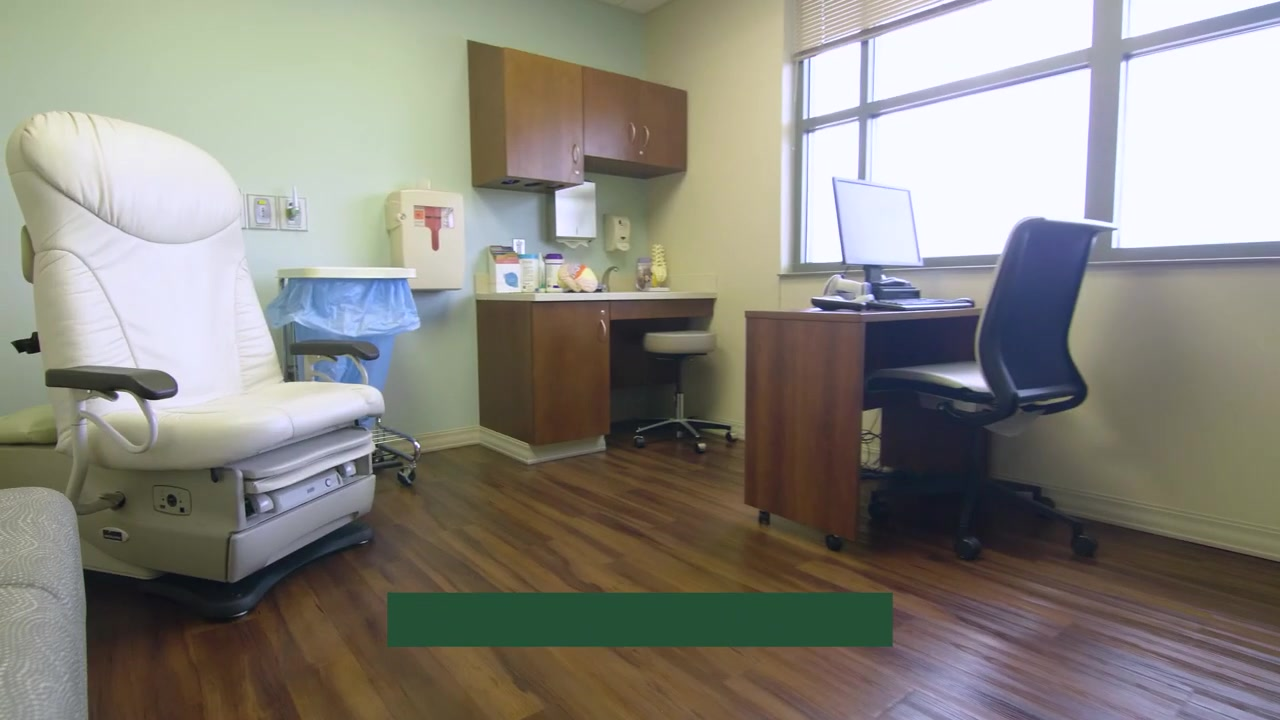cabinet: (466, 39, 689, 189)
chair: (864, 216, 1119, 561), (633, 329, 738, 454)
computer: (831, 176, 926, 268)
counter: (473, 291, 717, 460)
dispenser: (548, 180, 598, 249), (603, 215, 632, 253)
faucet: (600, 265, 623, 292)
handle: (627, 120, 637, 145), (641, 124, 651, 149), (598, 317, 608, 340), (571, 142, 580, 165)
keyboard: (865, 298, 972, 312)
medical_waste_container: (387, 185, 470, 298)
mouse: (949, 297, 977, 308)
sofa: (1, 111, 384, 623), (1, 486, 86, 720)
table: (743, 305, 985, 552)
waste_bin: (277, 266, 422, 486)
